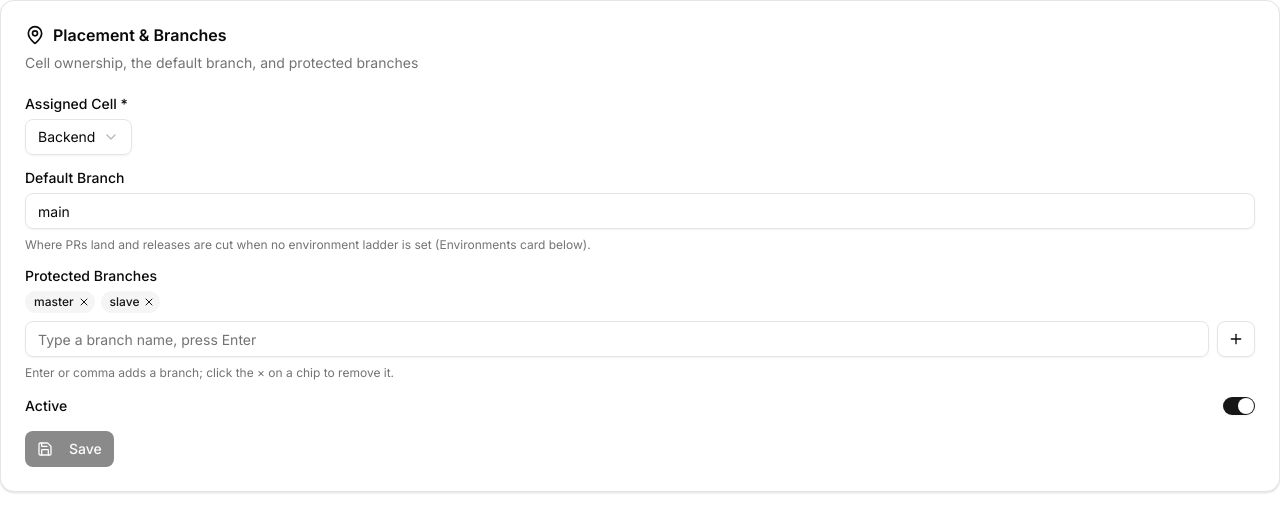
Test: PlacementCard › Save is disabled until a field changes
This screenshot has width=1280, height=510.
Expected: the button "Save" is disabled, [25, 431, 114, 467]
Click the switch named "Active" at (1239, 406), box [1223, 397, 1255, 415]
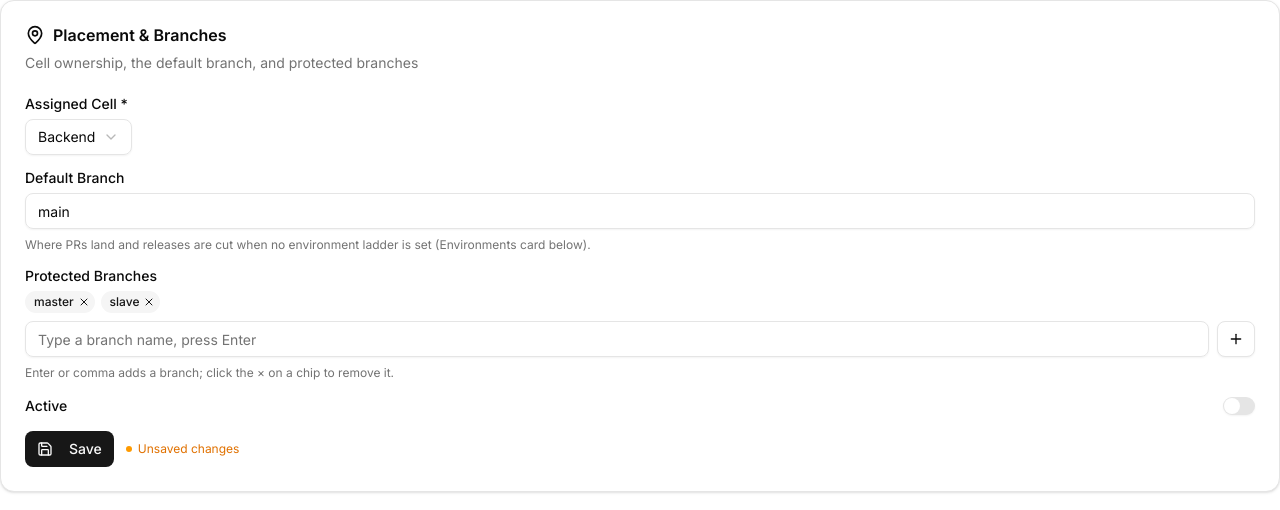
Expected: the button "Save" is enabled, [25, 431, 114, 467]
